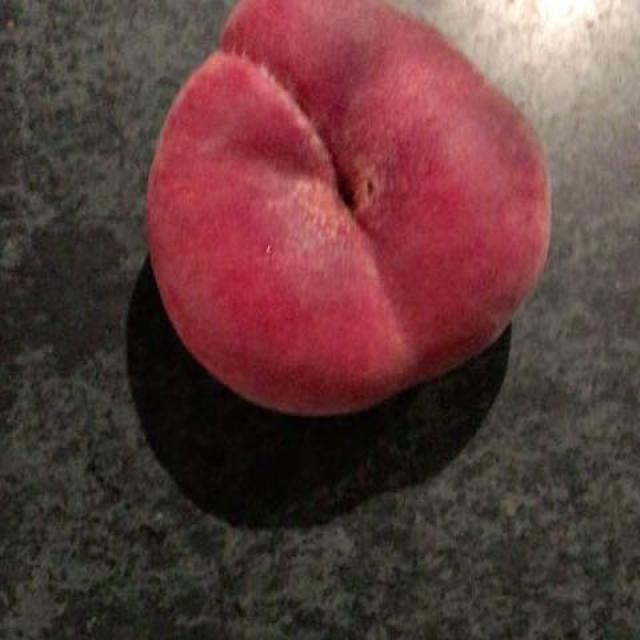peach: (149, 10, 531, 447)
